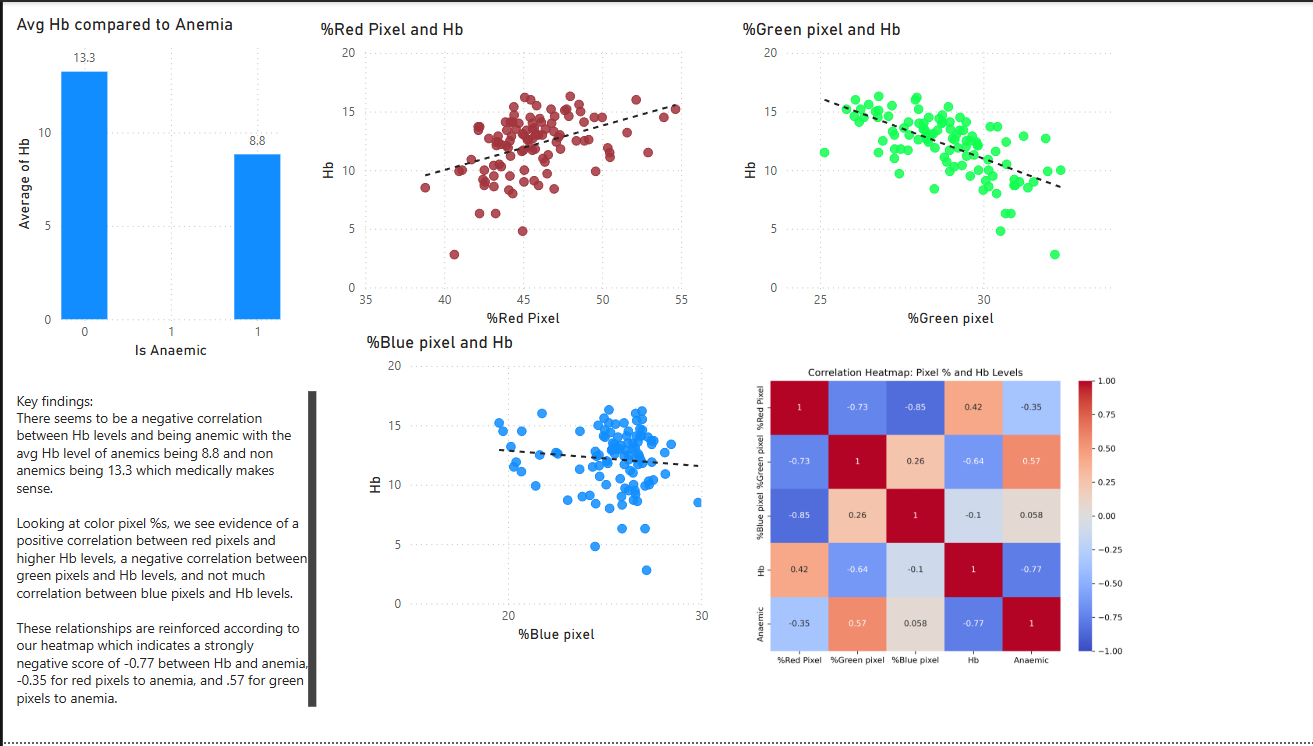

What the dashboard file says about the page in this screenshot:
{"tool":"powerbi","page":{"name":"Page 1","canvas":[1280,720],"ordinal":0},"visuals":[{"type":"columnChart","title":"Avg Hb compared to Anemia","fields":{"Y":["Avg(anemia_dataset.Hb)"],"Category":["anemia_dataset.Anaemic_Numeric"]},"box":[7.8,11.7,267.5,340.4],"z":0},{"type":"scatterChart","fields":{"Y":["anemia_dataset.Hb"],"X":["anemia_dataset.%Red Pixel"]},"box":[303.5,16.5,368.6,304.4],"z":1},{"type":"scatterChart","fields":{"Y":["anemia_dataset.Hb"],"X":["anemia_dataset.%Green pixel"]},"box":[713.9,16.5,379.3,304.4],"z":2},{"type":"scatterChart","fields":{"Y":["anemia_dataset.Hb"],"X":["anemia_dataset.%Blue pixel"]},"box":[348.2,321,343.3,307.4],"z":3},{"type":"image","box":[722.7,321,377.4,359.9],"z":4},{"type":"textbox","box":[7.8,373.5,302.5,332.6],"z":5}]}

Visuals, with their boxes in screenshot pixels (x1, y1, x2, y2), scaled from the page's 1280x720 canvas onto the 1313x746 screenshot:
"Avg Hb compared to Anemia" columnChart: (8, 12, 282, 365)
scatterChart - anemia_dataset.Hb x anemia_dataset.%Red Pixel: (311, 17, 689, 332)
scatterChart - anemia_dataset.Hb x anemia_dataset.%Green pixel: (732, 17, 1121, 332)
scatterChart - anemia_dataset.Hb x anemia_dataset.%Blue pixel: (357, 333, 709, 651)
image: (741, 333, 1128, 705)
textbox: (8, 387, 318, 732)
